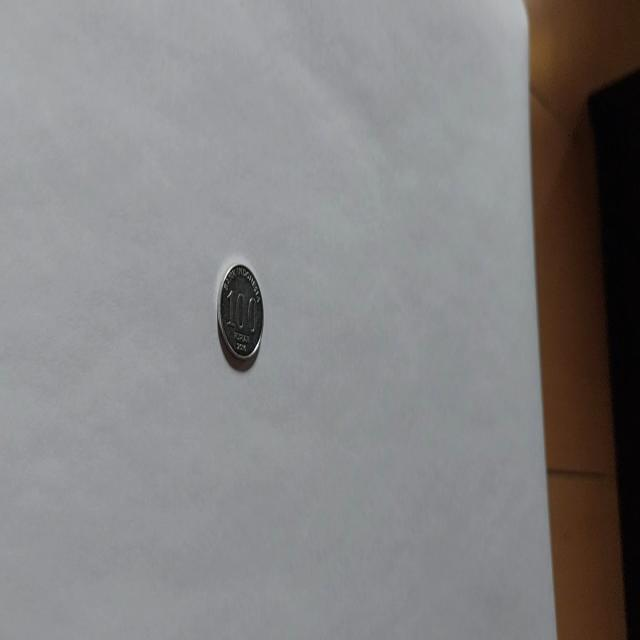seratus rupiah: (216, 261, 264, 370)
